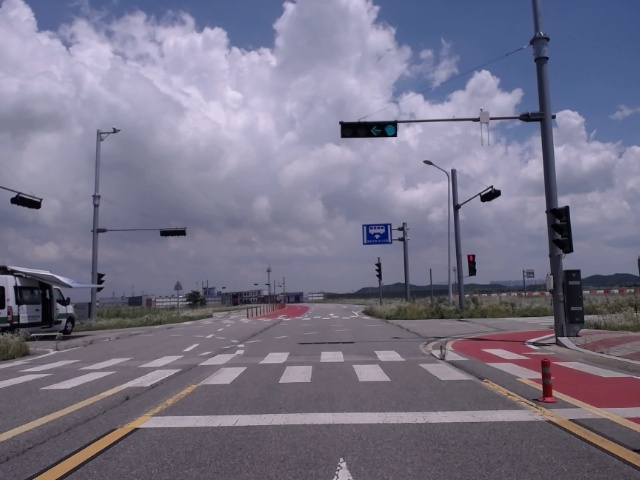all_green_4: (338, 124, 400, 141)
